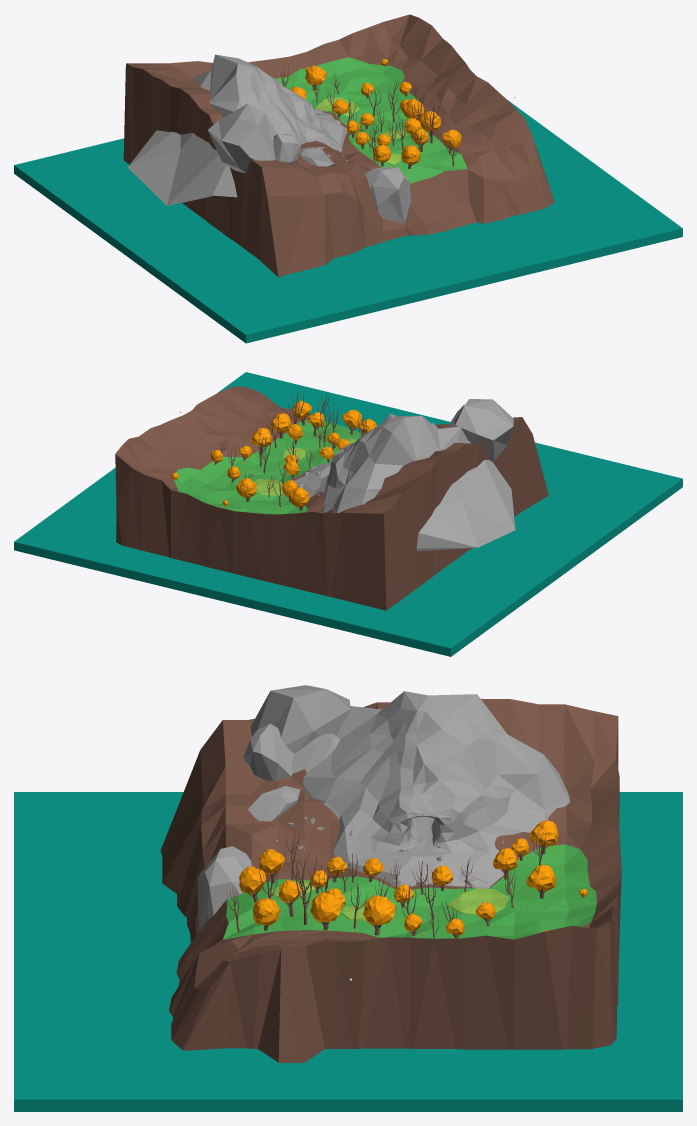
3 renders of one model, top to bottom at view 1: azimuth 30°, elevation 25°; view 2: azimuth 150°, elevation 25°; view 3: azimuth 270°, elevation 25°, orthographic. The views are drawn at different scales.
Visible parts, largest first — view 1: Node; view 2: Node; view 3: Node.
Boxes of the visible parts, x1=… form: Node: x1=14, y1=14, x2=682, y2=343; Node: x1=14, y1=372, x2=682, y2=656; Node: x1=14, y1=685, x2=682, y2=1111.
Size of the model in its own units: 8.69 by 2.87 by 7.99.
